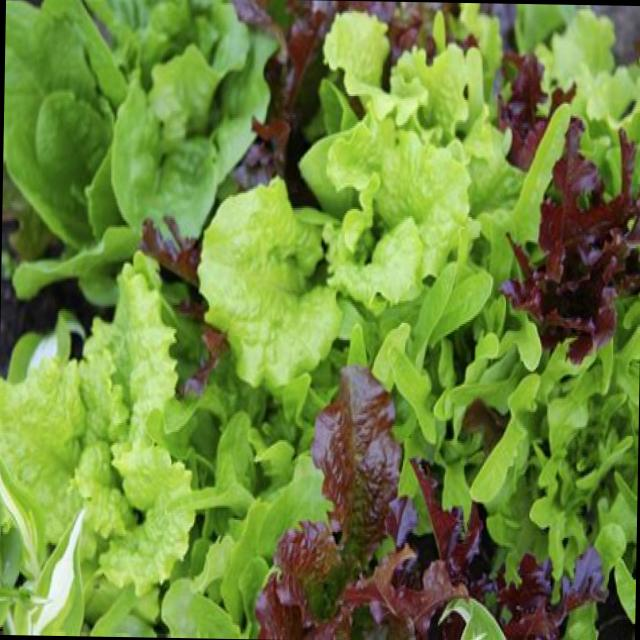Lettuce-Ready-to-Harvest: (17, 9, 218, 209), (15, 346, 190, 564), (198, 203, 346, 393)
